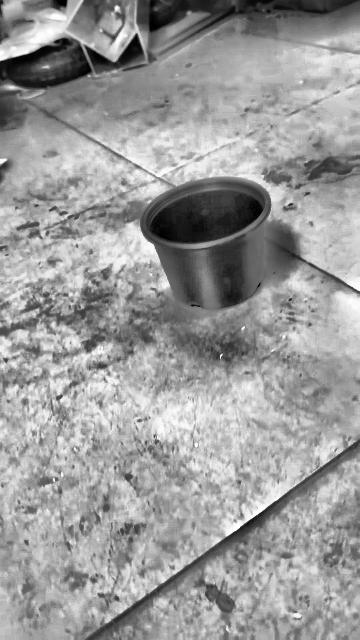pot: (141, 179, 271, 308)
